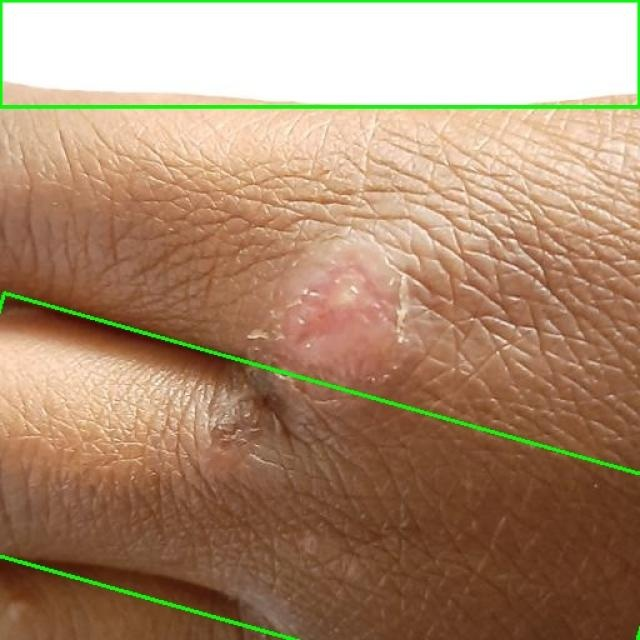Eczema: (0, 293, 640, 640), (0, 0, 639, 106)
